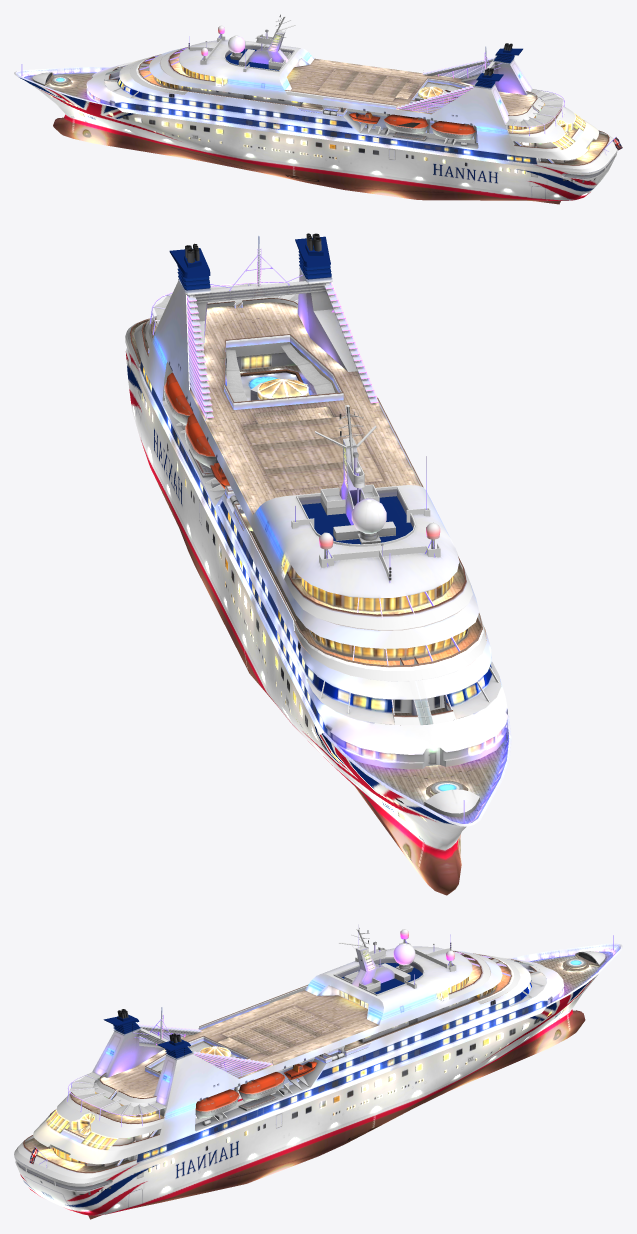
The model's file is ok ship.fbx.
3 views of the same model, one above another, from view 1: azimuth 30°, elevation 25°; view 2: azimuth 150°, elevation 25°; view 3: azimuth 270°, elevation 25° (orthographic). The views are drawn at different scales.
Visible parts, largest first — view 1: Cruiseship, pPlane1; view 2: Cruiseship, pPlane1; view 3: Cruiseship, pPlane1.
Part boxes in pixels (bbox=[...]): Cruiseship: bbox=[14, 14, 622, 204]; pPlane1: bbox=[318, 69, 408, 101]; Cruiseship: bbox=[125, 233, 511, 895]; pPlane1: bbox=[243, 416, 383, 490]; Cruiseship: bbox=[14, 924, 622, 1219]; pPlane1: bbox=[222, 1006, 339, 1055].
Size of the model in its own units: 14368 by 5365 by 15673.
Materials: 1 (1 with a texture image).
